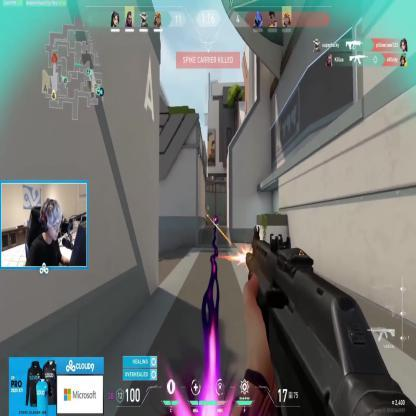enemy: (203, 209, 208, 225)
enemy_head: (204, 210, 206, 213)
